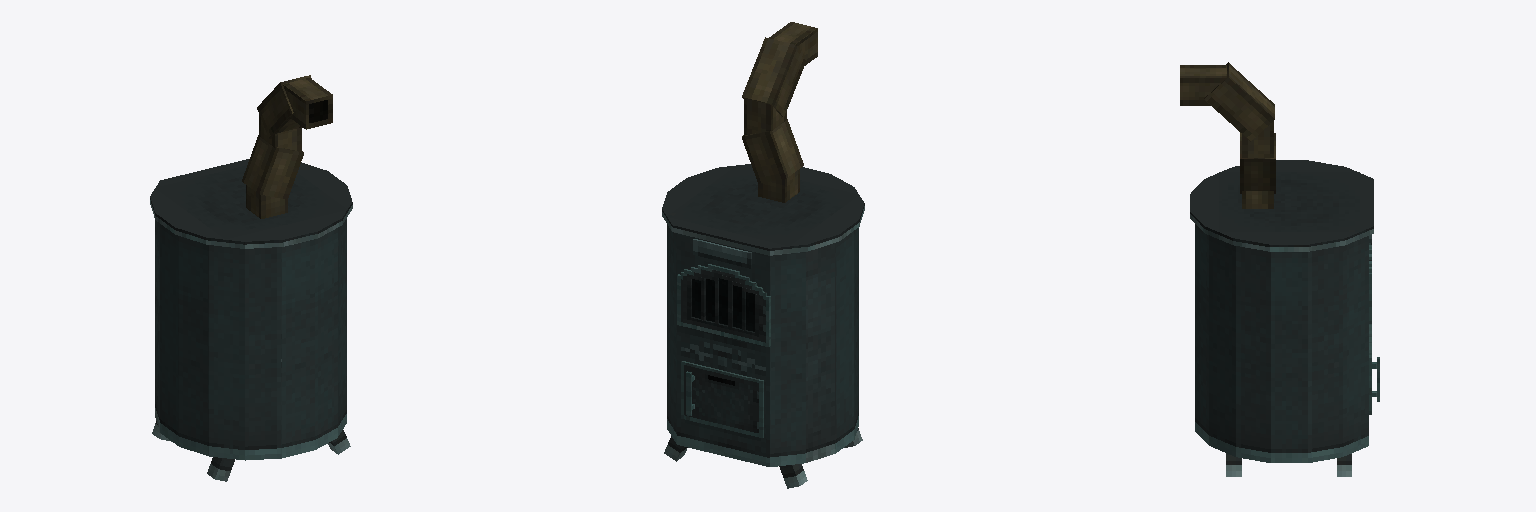
3 renders of one model, left to right at view 1: azimuth 30°, elevation 25°; view 2: azimuth 150°, elevation 25°; view 3: azimuth 270°, elevation 25°, orthographic.
Parts seen in each view (by area): view 1: cube; view 2: cube; view 3: cube.
Part boxes in pixels (bbox=[...]): cube: bbox=[150, 75, 352, 481]; cube: bbox=[662, 22, 864, 488]; cube: bbox=[1180, 62, 1379, 476].
Bounding box in the file's own units: 15.82 × 33.83 × 15.89.
3 materials, 3 textured.